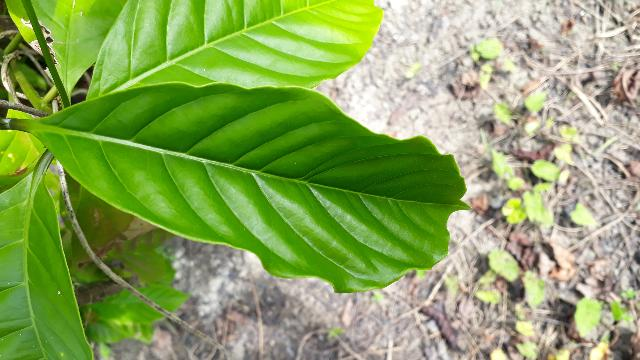healthy: (11, 82, 477, 298)
